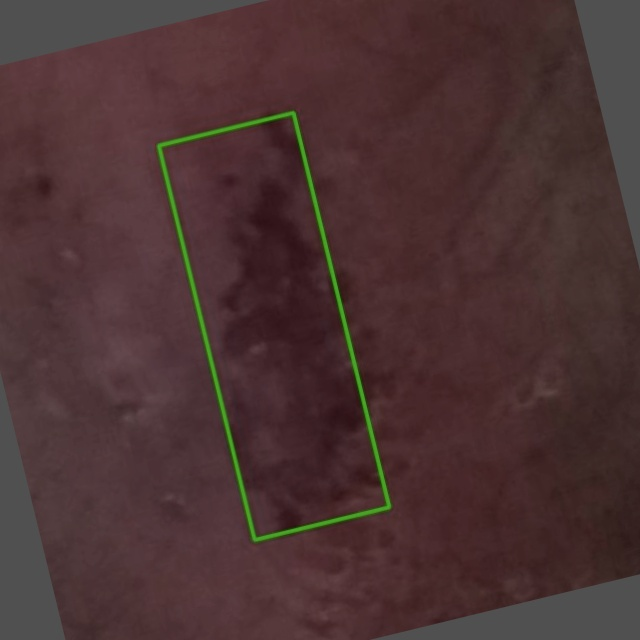Eczema: (158, 112, 389, 539)
